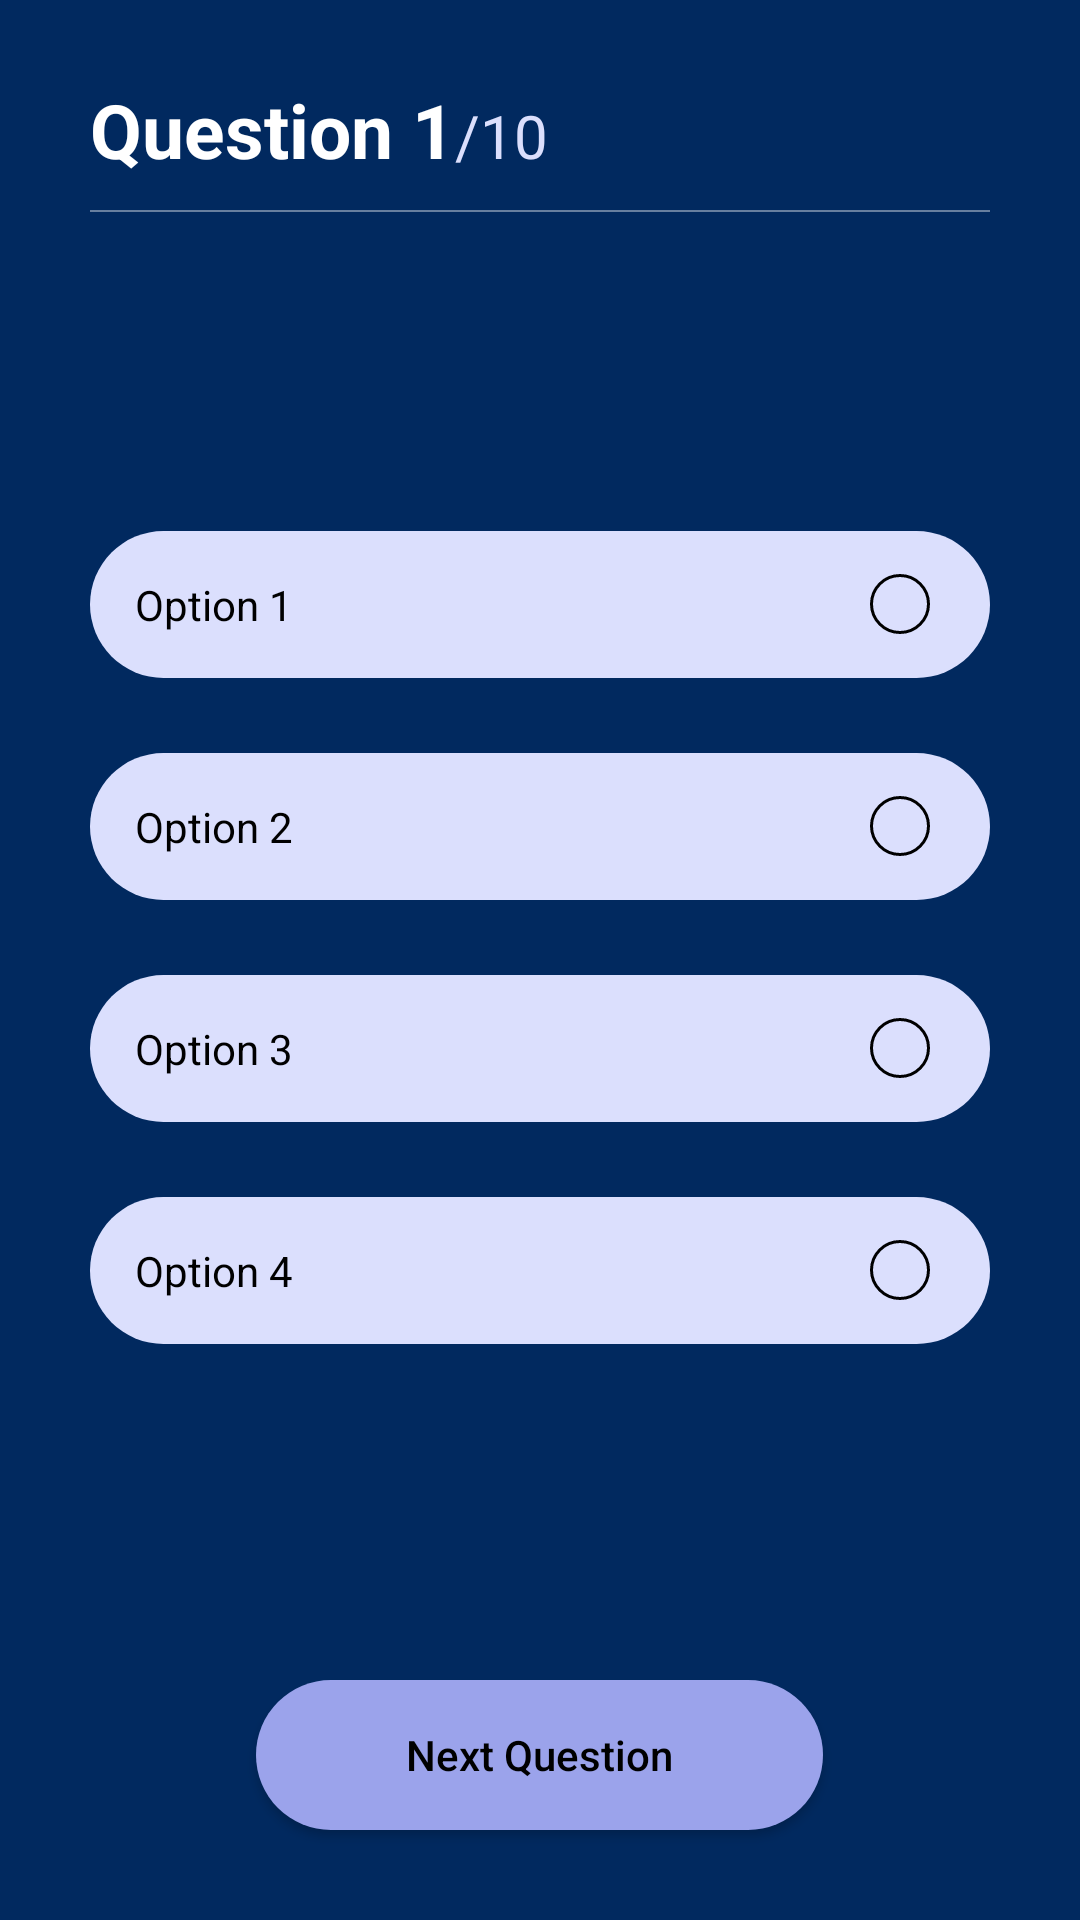

Icons on this 1080 × 1920 Android screen, each with its box as [left=x1, top=y1, right=x2, bottom=y2]:
radio: [left=870, top=574, right=930, bottom=634], [left=870, top=796, right=930, bottom=856], [left=870, top=1018, right=930, bottom=1078], [left=870, top=1240, right=930, bottom=1300]
